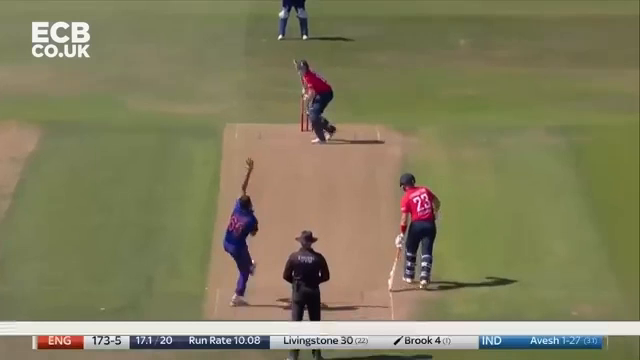Bowler: (223, 158, 261, 309)
Umpire: (284, 232, 329, 319)
batsman: (389, 172, 441, 294), (288, 57, 342, 145)
